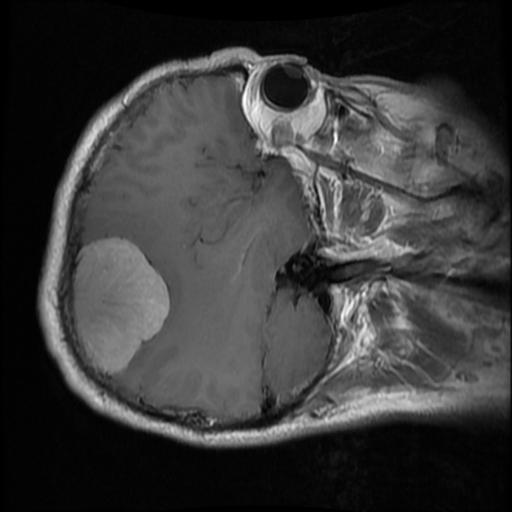meningioma: (72, 237, 170, 377)
